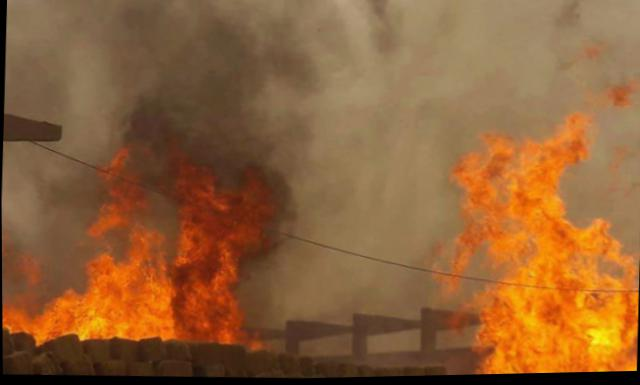fire: (476, 244, 639, 375), (168, 165, 291, 264), (460, 149, 569, 250), (4, 306, 241, 337), (85, 255, 231, 295), (58, 286, 236, 315), (92, 154, 137, 257)
smoke: (5, 0, 476, 125), (63, 102, 466, 164), (291, 155, 431, 324), (476, 0, 549, 130), (285, 312, 438, 363), (1, 140, 47, 240), (47, 161, 85, 280), (543, 0, 573, 123), (579, 0, 639, 47), (250, 267, 290, 319), (609, 42, 640, 79), (576, 68, 596, 109)
